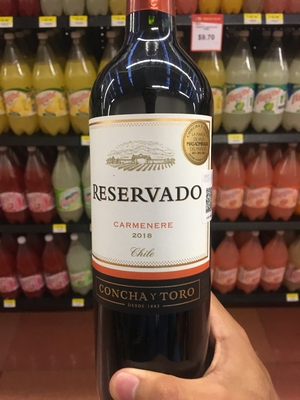reservado carmenere: (77, 26, 222, 400)
